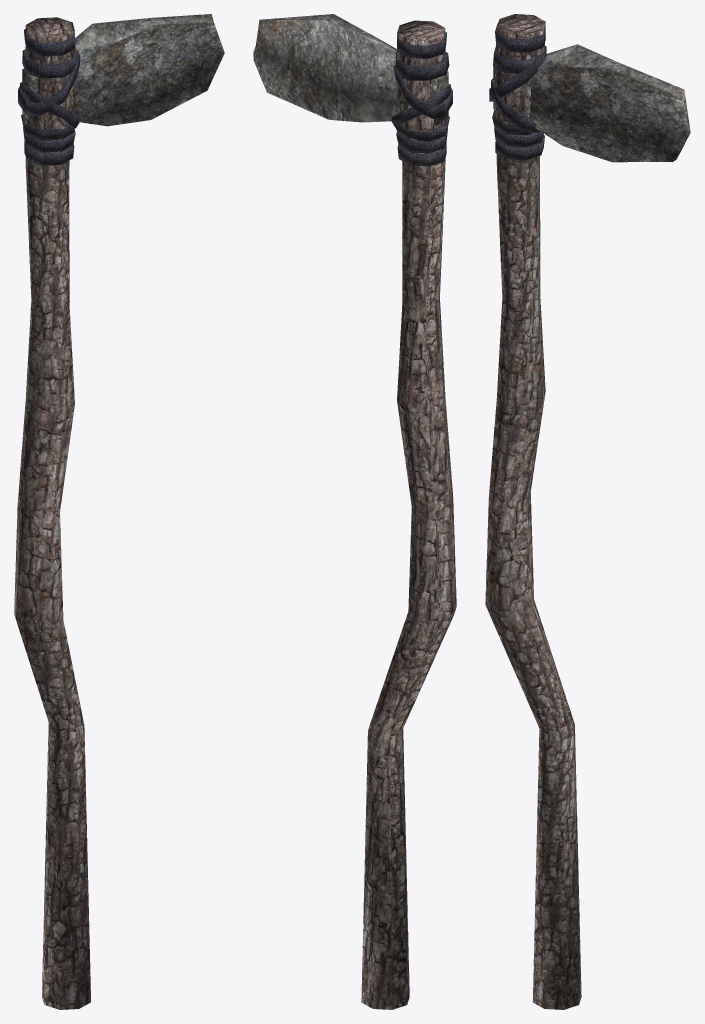
File: StoneAxe.fbx
3 renders of one model, left to right at view 1: azimuth 30°, elevation 25°; view 2: azimuth 150°, elevation 25°; view 3: azimuth 330°, elevation 25°, orthographic.
Visible parts, largest first — view 1: Cube; view 2: Cube; view 3: Cube.
Boxes of the visible parts, bbox=[...] form: Cube: bbox=[14, 14, 224, 1009]; Cube: bbox=[253, 14, 456, 1009]; Cube: bbox=[485, 14, 690, 1009].
Size of the model in its own units: 21.33 by 7.1 by 97.36.
Materials: 3 (3 with a texture image).
